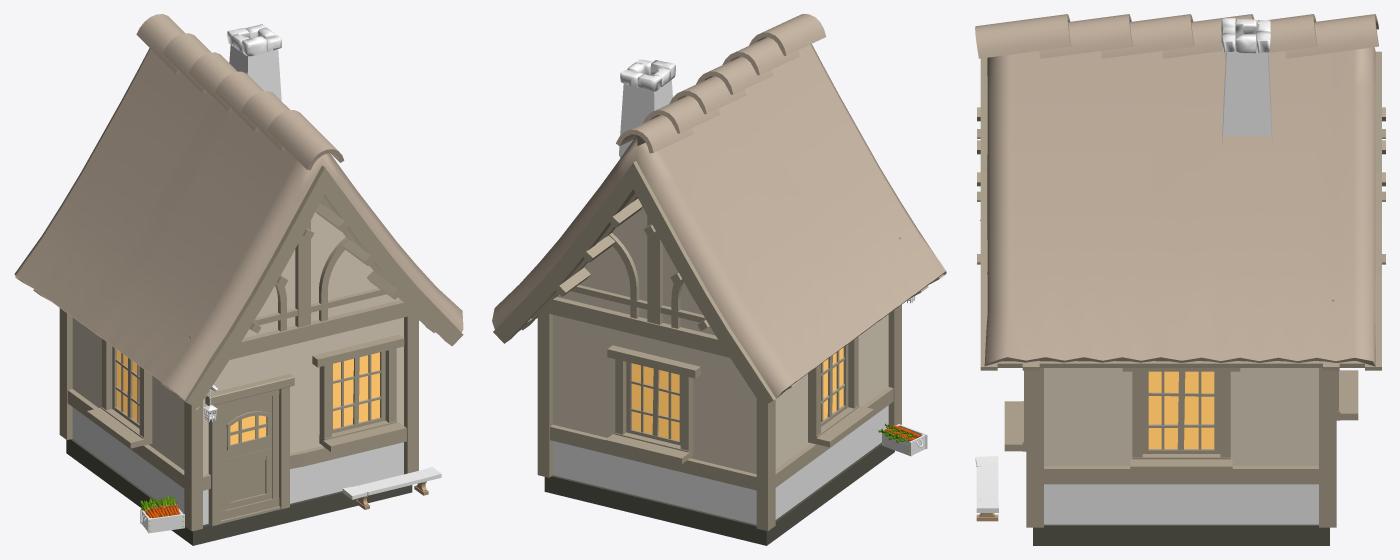
Rendered from eastbrook_compact.glb.
3 views of the same model, side by side, from view 1: azimuth 30°, elevation 25°; view 2: azimuth 150°, elevation 25°; view 3: azimuth 270°, elevation 25° (orthographic). The views are drawn at different scales.
Visible parts, largest first — view 1: village/MI_RoundTiles, village/MI_WoodTrim, village/MI_Plaster, village/MI_UnevenBrick, object 7, village/MI_WindowGlass, props/MI_Trim_Furniture (×2), village/MI_RockTrim, village/MI_Brick, props/MI_Trim_Props_Vertex; view 2: village/MI_RoundTiles, village/MI_WoodTrim, village/MI_Plaster, village/MI_UnevenBrick, object 7, village/MI_WindowGlass, village/MI_Brick, village/MI_RockTrim, props/MI_Trim_Furniture; view 3: village/MI_RoundTiles, village/MI_WoodTrim, village/MI_Plaster, village/MI_UnevenBrick, object 7, village/MI_WindowGlass, village/MI_Brick, village/MI_RockTrim, props/MI_Trim_Furniture.
Boxes of the visible parts, left/top/right/bottom form: village/MI_RoundTiles: left=14, top=14, right=463, bottom=400; village/MI_WoodTrim: left=15, top=165, right=463, bottom=531; village/MI_Plaster: left=72, top=212, right=403, bottom=474; village/MI_UnevenBrick: left=72, top=407, right=403, bottom=513; object 7: left=66, top=439, right=412, bottom=545; village/MI_WindowGlass: left=117, top=350, right=379, bottom=444; props/MI_Trim_Furniture (×2): left=140, top=467, right=441, bottom=533; village/MI_RockTrim: left=203, top=24, right=301, bottom=524; village/MI_Brick: left=229, top=45, right=281, bottom=100; props/MI_Trim_Props_Vertex: left=140, top=495, right=179, bottom=518; village/MI_RoundTiles: left=492, top=14, right=946, bottom=398; village/MI_WoodTrim: left=493, top=161, right=946, bottom=531; village/MI_Plaster: left=553, top=198, right=888, bottom=474; village/MI_UnevenBrick: left=553, top=405, right=888, bottom=524; object 7: left=544, top=442, right=894, bottom=545; village/MI_WindowGlass: left=632, top=347, right=843, bottom=440; village/MI_Brick: left=619, top=74, right=672, bottom=157; village/MI_RockTrim: left=620, top=59, right=675, bottom=91; props/MI_Trim_Furniture: left=882, top=424, right=927, bottom=456; village/MI_RoundTiles: left=975, top=14, right=1378, bottom=367; village/MI_WoodTrim: left=977, top=51, right=1385, bottom=527; village/MI_Plaster: left=1044, top=368, right=1318, bottom=465; village/MI_UnevenBrick: left=1044, top=484, right=1318, bottom=524; object 7: left=1033, top=524, right=1329, bottom=545; village/MI_WindowGlass: left=1148, top=371, right=1214, bottom=448; village/MI_Brick: left=1222, top=28, right=1272, bottom=144; village/MI_RockTrim: left=1221, top=18, right=1270, bottom=53; props/MI_Trim_Furniture: left=975, top=456, right=998, bottom=521.
Bounding box in the file's own units: 5.51 × 7.24 × 5.62.
